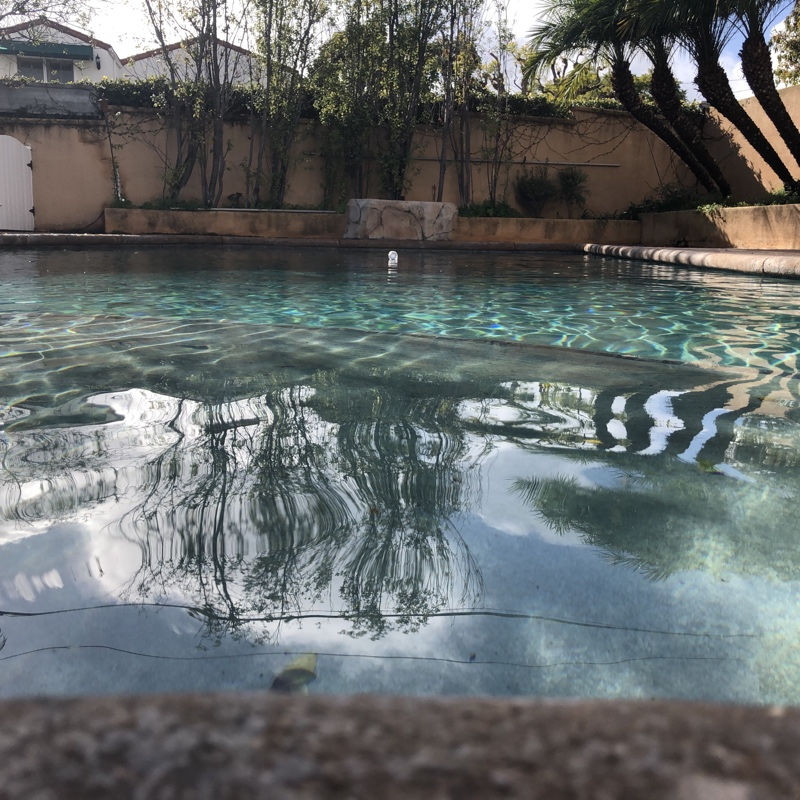Plastic Bottle: (385, 245, 398, 268)
